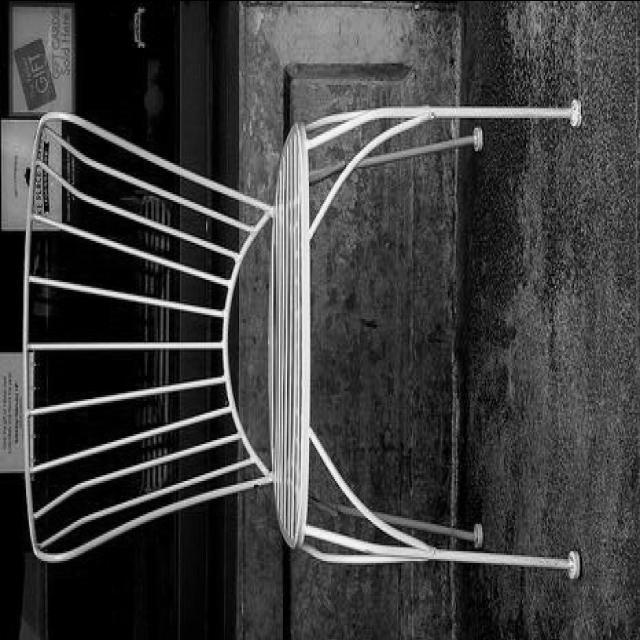chair: (19, 99, 586, 580)
